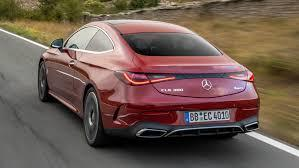mercedes: (201, 79, 213, 90)
